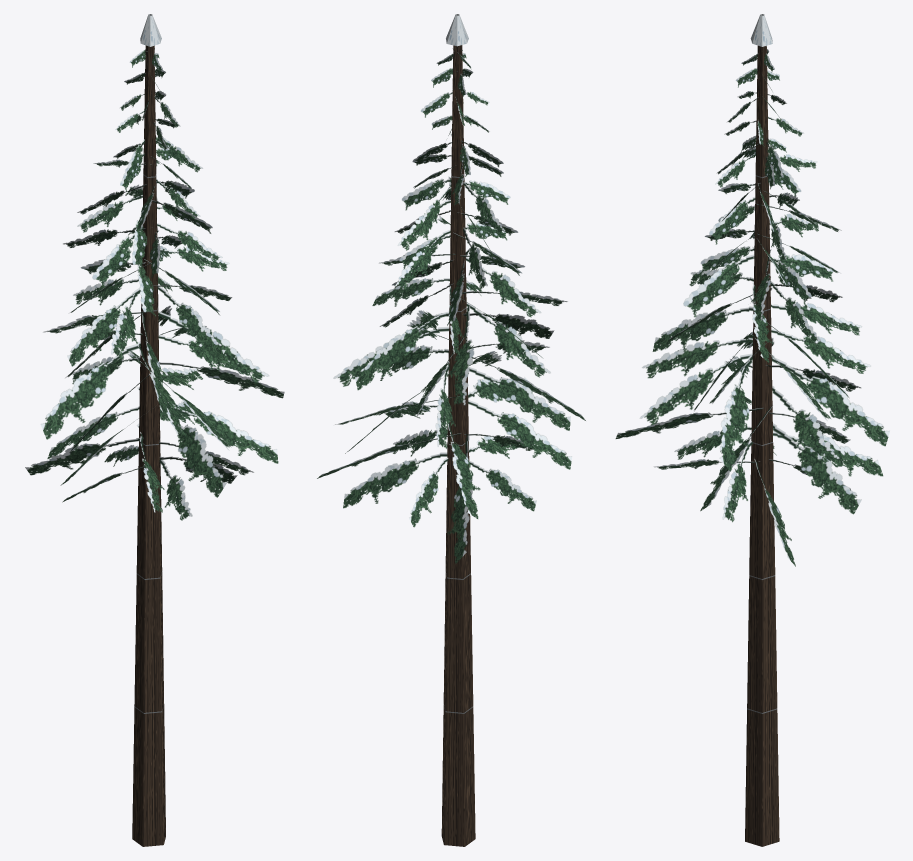
Rendered from TallPine.glb.
The picture shows the model from 3 angles, left to right: view 1: azimuth 30°, elevation 25°; view 2: azimuth 150°, elevation 25°; view 3: azimuth 270°, elevation 25°; orthographic projection.
Parts seen in each view (by area): view 1: TallPine; view 2: TallPine; view 3: TallPine.
Part boxes in pixels (x1,y1,x2,y2): TallPine: [25, 14, 284, 846]; TallPine: [317, 14, 585, 846]; TallPine: [615, 14, 889, 846].
Size of the model in its own units: 2.42 by 8.12 by 2.53.
1 material, 1 textured.
